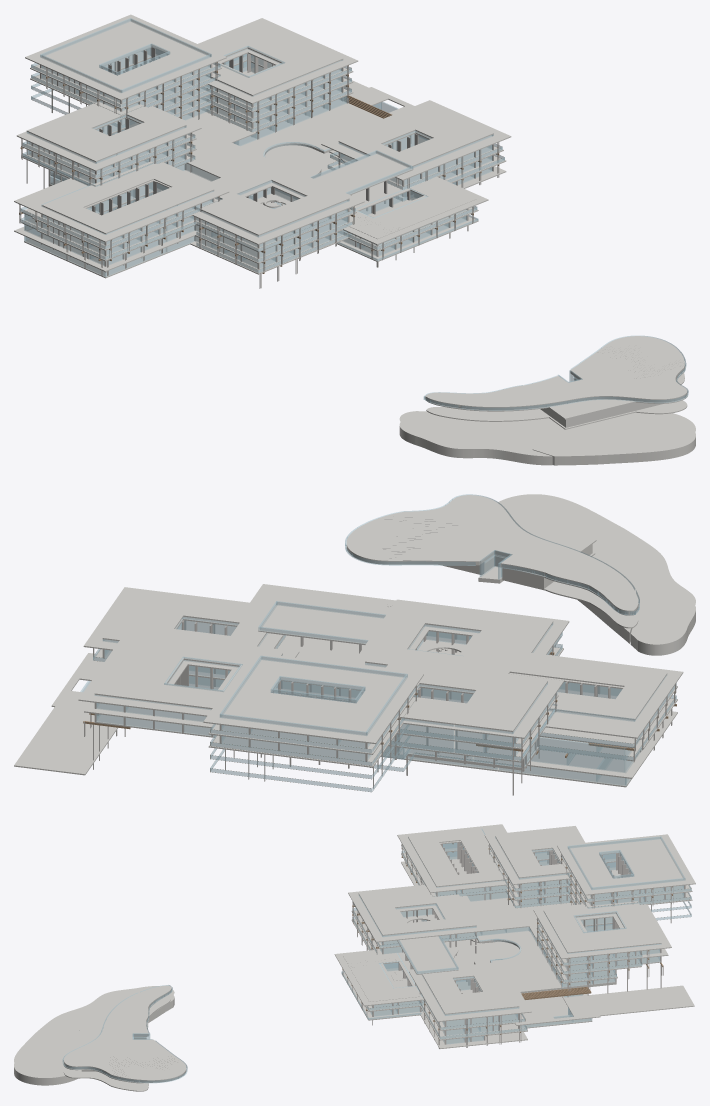
File: sketch.glb
3 views of the same model, one above another, from view 1: azimuth 30°, elevation 25°; view 2: azimuth 150°, elevation 25°; view 3: azimuth 270°, elevation 25° (orthographic). The views are drawn at different scales.
Visible parts, largest first — view 1: slab, glass, concrete, timber; view 2: slab, glass, concrete, frame, timber; view 3: slab, glass, concrete, timber.
Boxes of the visible parts, x1,y1,x2,y2 form: slab: (14,14,695,465); glass: (20,18,688,410); concrete: (19,47,499,288); timber: (19,62,499,273); slab: (14,494,695,787); glass: (80,494,676,791); concrete: (84,620,676,795); frame: (93,637,672,791); timber: (83,624,676,757); slab: (14,824,695,1091); glass: (62,828,691,1083); concrete: (342,841,685,1048); timber: (342,843,672,1038).
Bounding box in the file's own units: 149 × 53.53 × 236.
